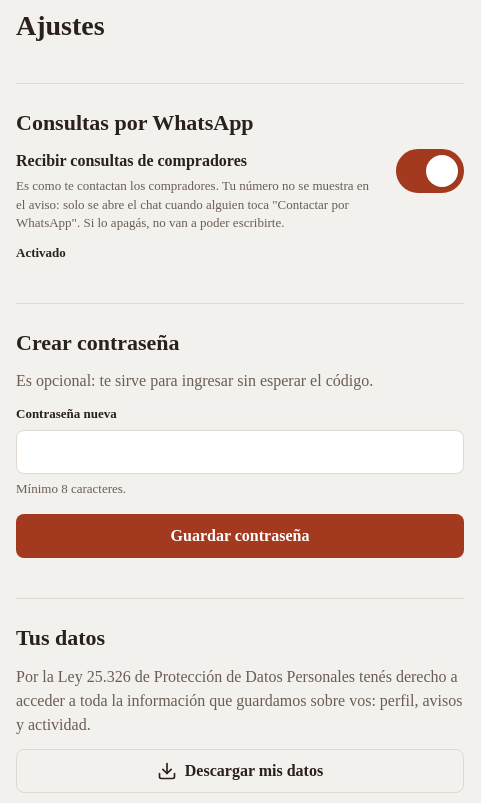
Scenario: /ajustes — contraseña, exportación y errores › descarga los datos como JSON
Click the button "Descargar mis datos" at (240, 771), box [16,749,464,793]
(page scrolled)
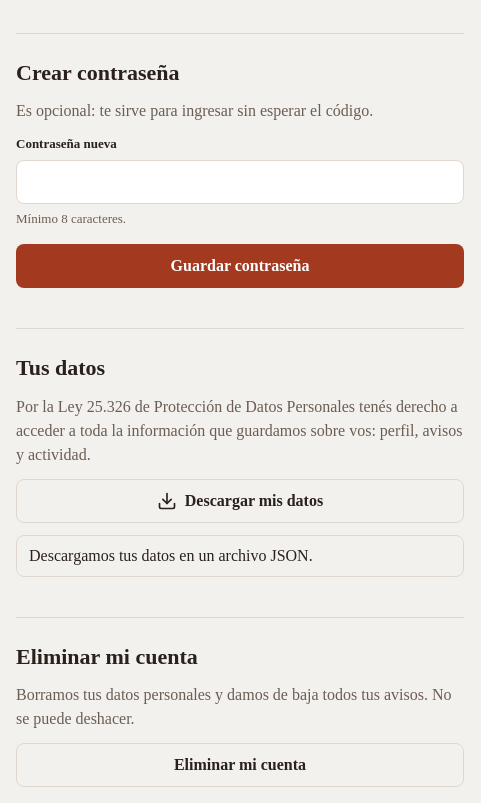
Check: the text "Descargamos tus datos en un archivo JSON." is shown, box [16,535,464,577]
